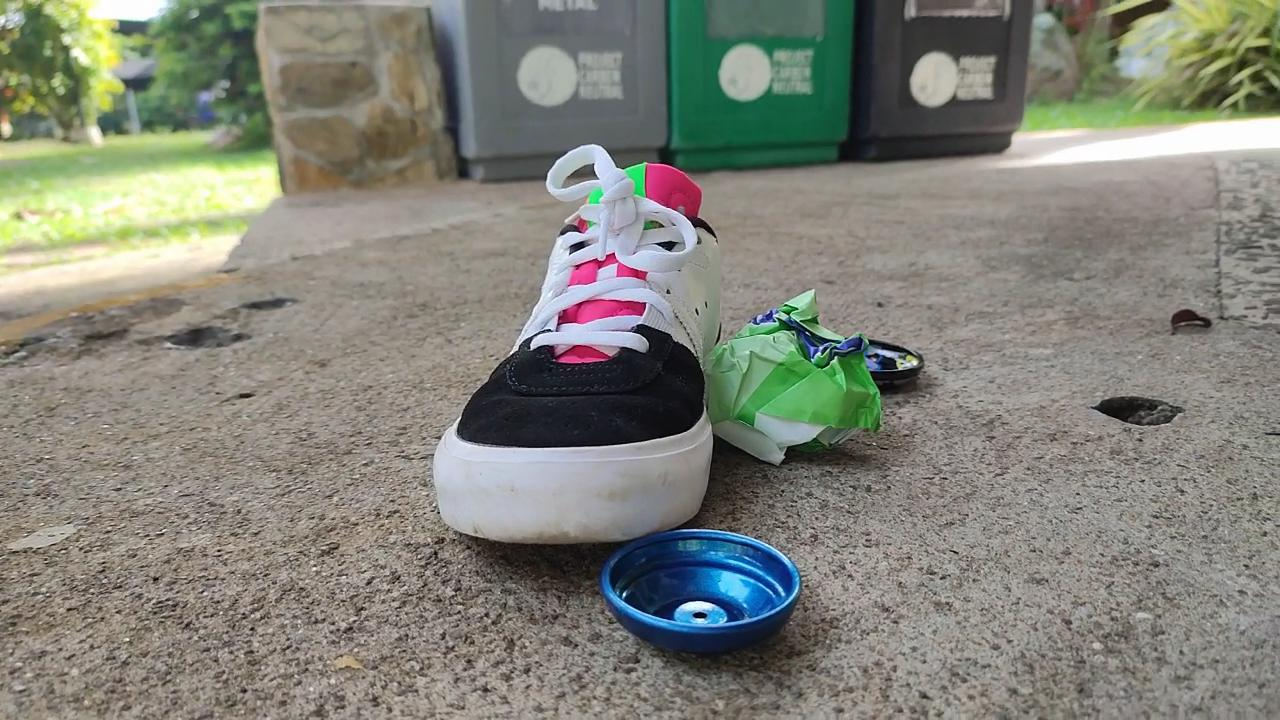Paper: (702, 278, 890, 482)
